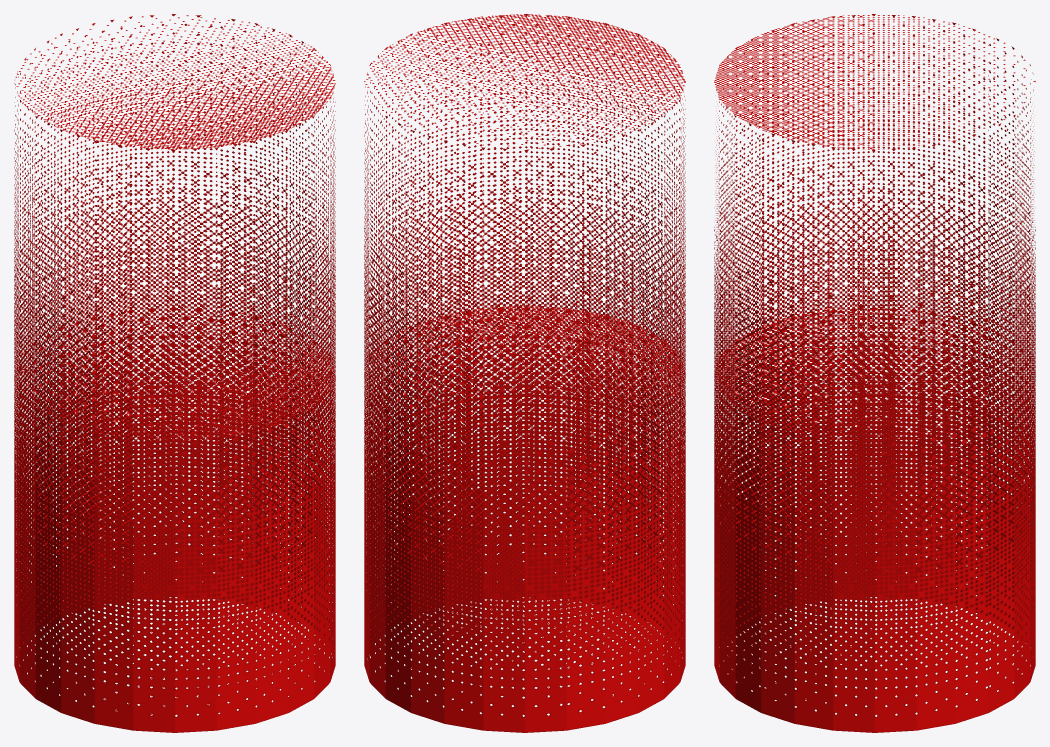
File: switch2.obj
The picture shows the model from 3 angles, left to right: view 1: azimuth 30°, elevation 25°; view 2: azimuth 150°, elevation 25°; view 3: azimuth 270°, elevation 25°; orthographic projection.
Parts seen in each view (by area): view 1: entity0_brush1, entity0_brush0; view 2: entity0_brush1, entity0_brush0; view 3: entity0_brush1, entity0_brush0.
Part boxes in pixels (bbox=[...]): entity0_brush1: bbox=[14, 306, 335, 732]; entity0_brush0: bbox=[14, 14, 335, 441]; entity0_brush1: bbox=[364, 305, 685, 732]; entity0_brush0: bbox=[364, 14, 685, 441]; entity0_brush1: bbox=[714, 306, 1035, 732]; entity0_brush0: bbox=[714, 14, 1035, 441].
Bounding box in the file's own units: 64 × 128 × 64.
1 material, 1 textured.
